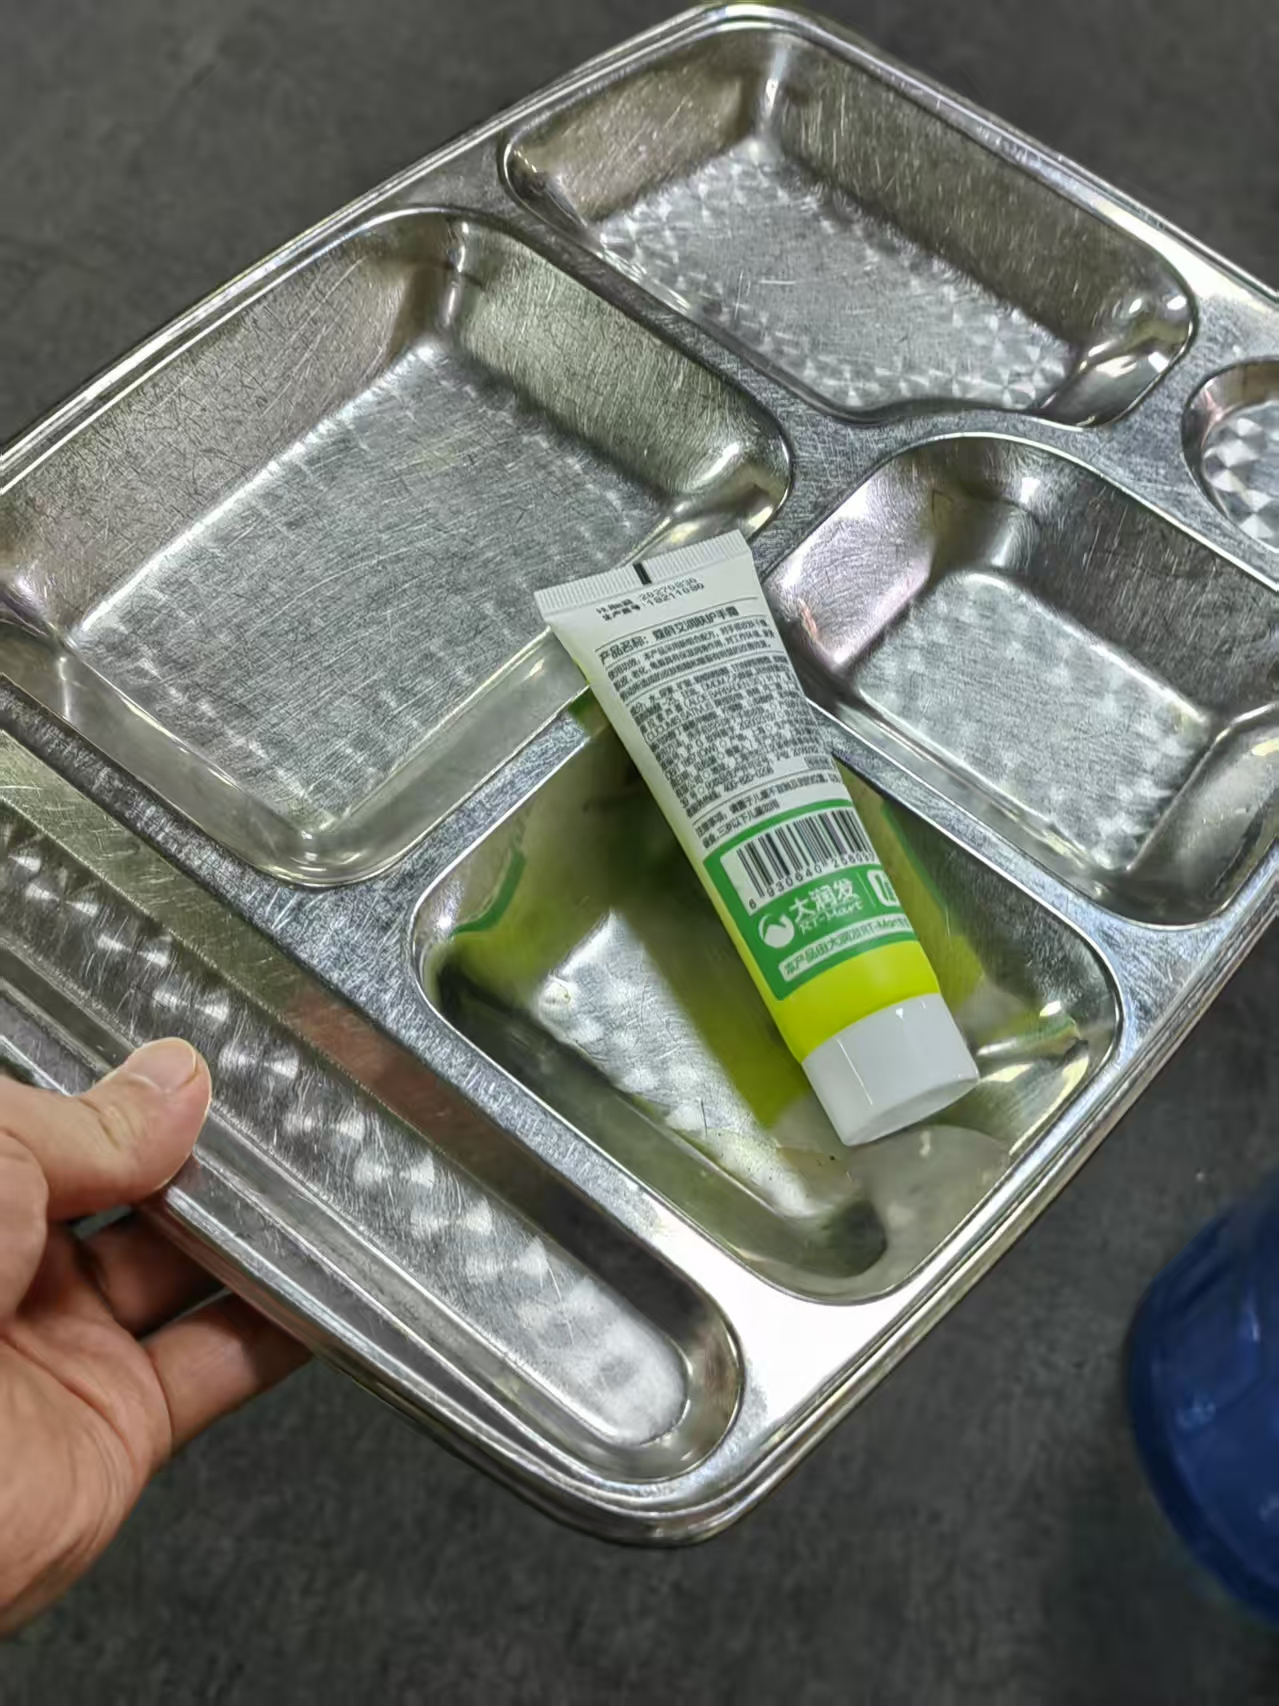mild: (531, 526, 985, 1147)
plate: (5, 6, 1279, 1554)
